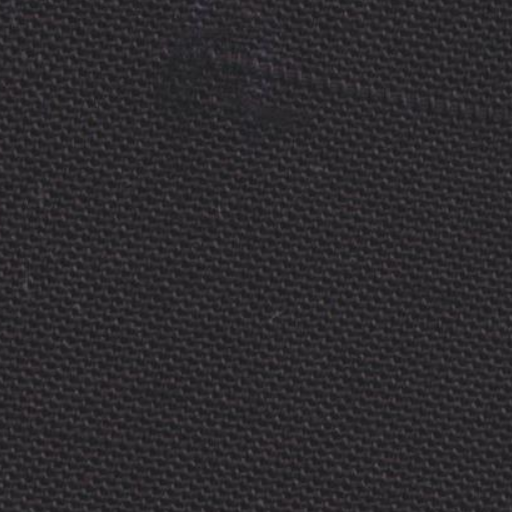DaiSha: (204, 24, 465, 138)
